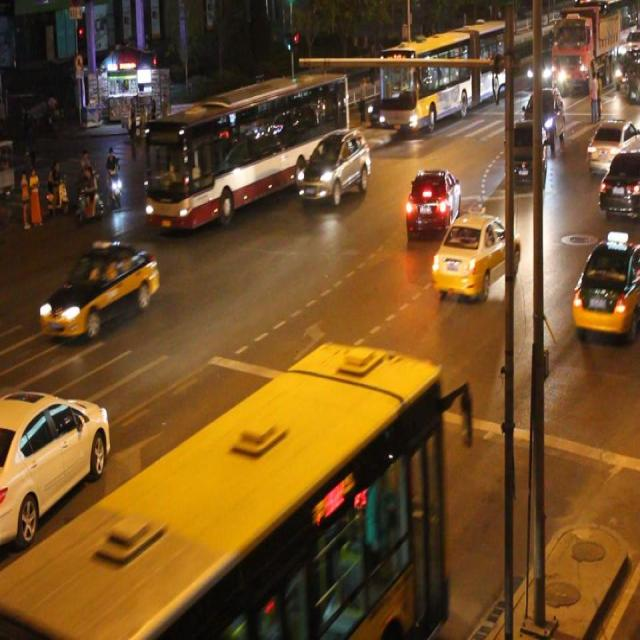car: (1, 388, 110, 541), (38, 240, 161, 336), (431, 214, 518, 296), (571, 238, 640, 332), (297, 130, 370, 203), (404, 164, 459, 239), (596, 150, 640, 217), (586, 120, 640, 174), (505, 118, 544, 191)
van: (1, 341, 447, 640), (147, 78, 347, 225)
